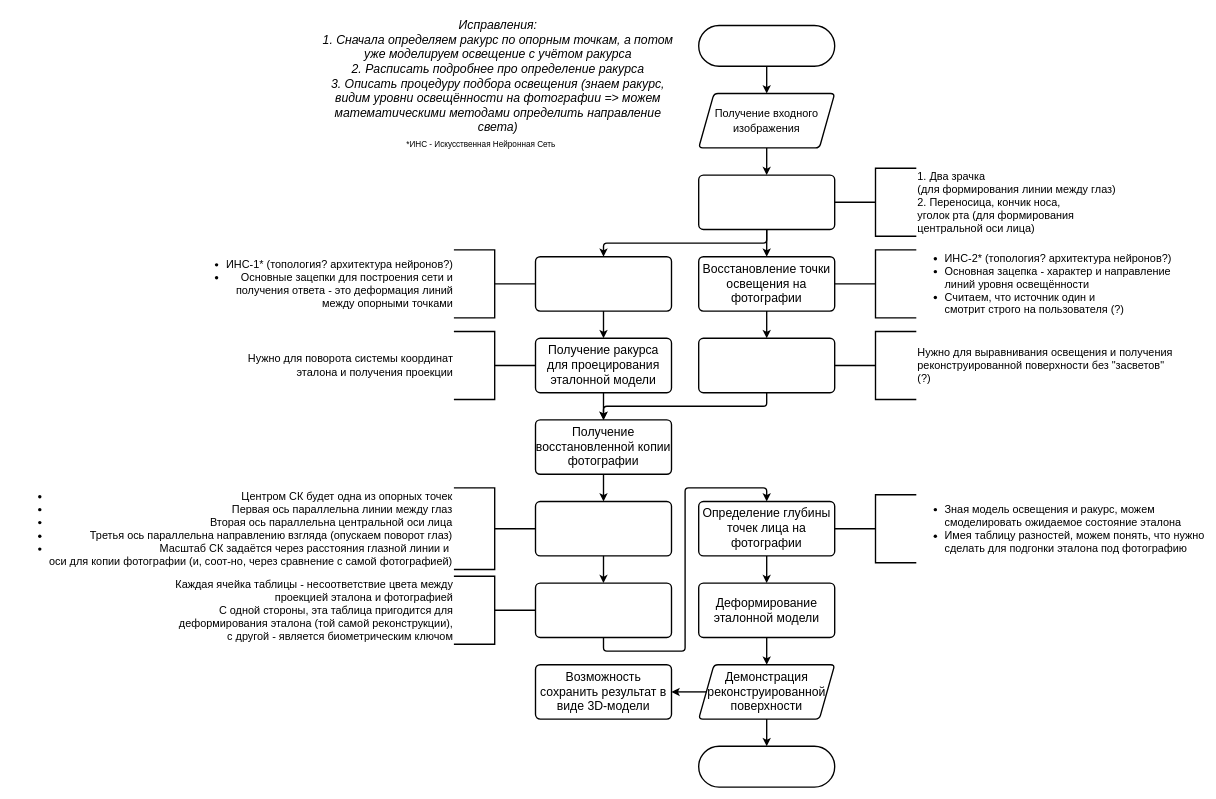
Some shapes in this 1216 by 799 pixel diagram are drawn without their labels. Each missing label, with the centre of its shape:
"Вычисление таблицы разностей проекции эталона и фотографии" belongs at pixel 603 610.
"Задание системы координат для фотографии" belongs at pixel 603 528.
"Конец работы" belongs at pixel 766 766.
"Начало работы" belongs at pixel 766 45.
"Определение ракурса лица на фотографии" belongs at pixel 603 283.
"Поиск опорных точек лица на фотографии" belongs at pixel 766 202.
"Получение модели освещения для эталонной модели" belongs at pixel 766 365.
